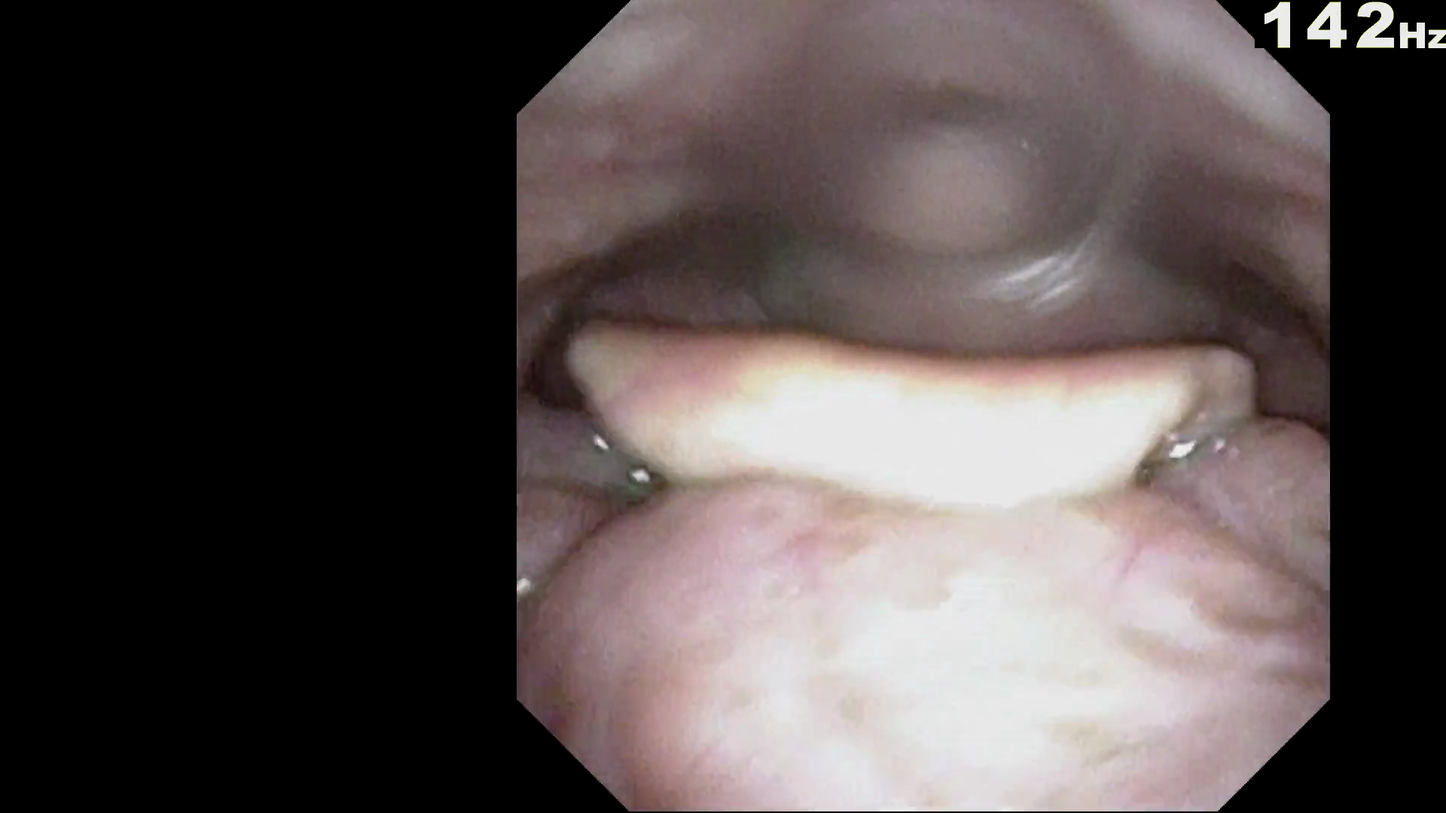epiglottis: (613, 322, 1229, 547)
